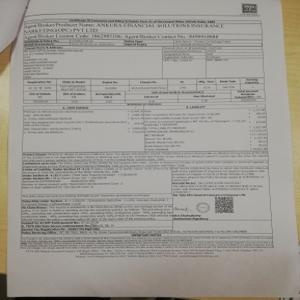image: (238, 1, 261, 15)
table: (22, 19, 265, 101), (21, 103, 267, 151)
text: (19, 234, 274, 260), (173, 162, 270, 194)
